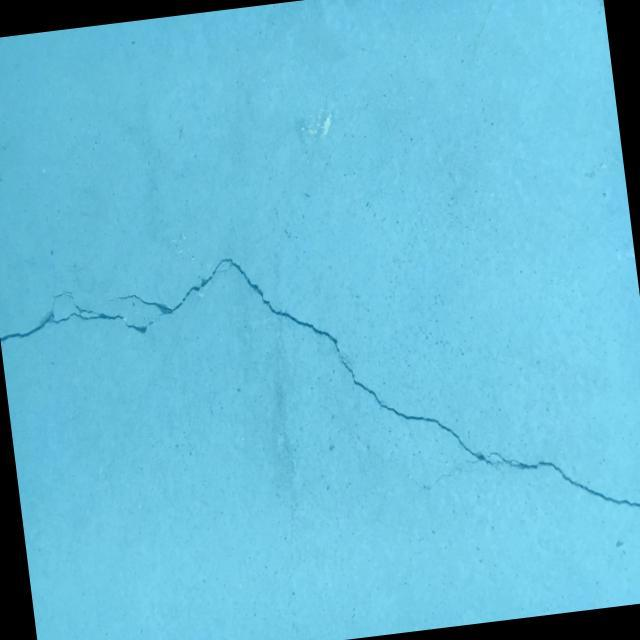crack: (105, 207, 640, 578), (0, 283, 125, 342)
